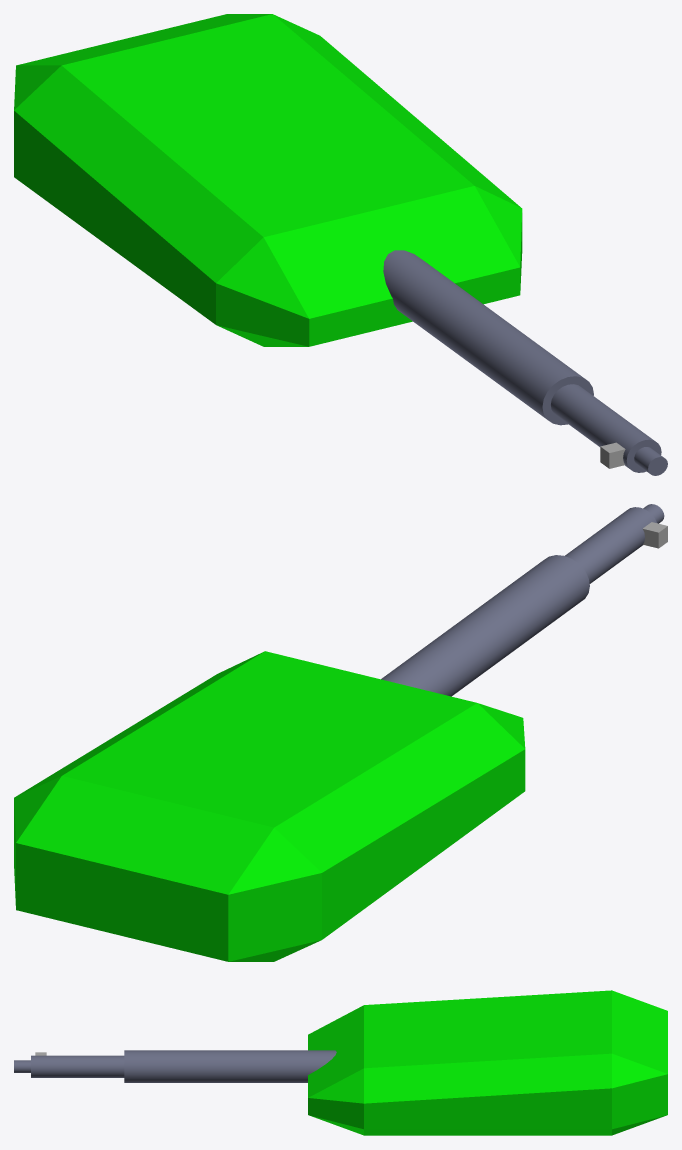
The model's file is Houtou.fbx.
3 renders of one model, top to bottom at view 1: azimuth 30°, elevation 25°; view 2: azimuth 150°, elevation 25°; view 3: azimuth 270°, elevation 25°, orthographic. The views are drawn at different scales.
Parts seen in each view (by area): view 1: Houtou; view 2: Houtou; view 3: Houtou.
Boxes of the visible parts, <box> form: Houtou: <box>14,14,667,475</box>; Houtou: <box>14,504,667,961</box>; Houtou: <box>14,990,667,1135</box>.
Size of the model in its own units: 0.9683 by 0.4033 by 2.92.
